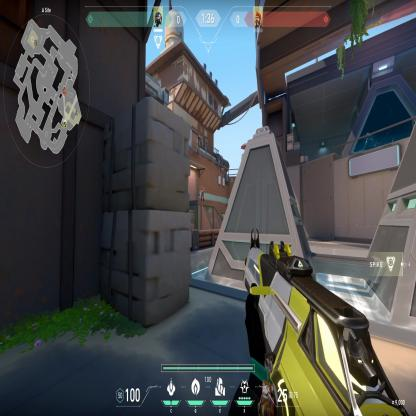enemy: (200, 184, 205, 201)
